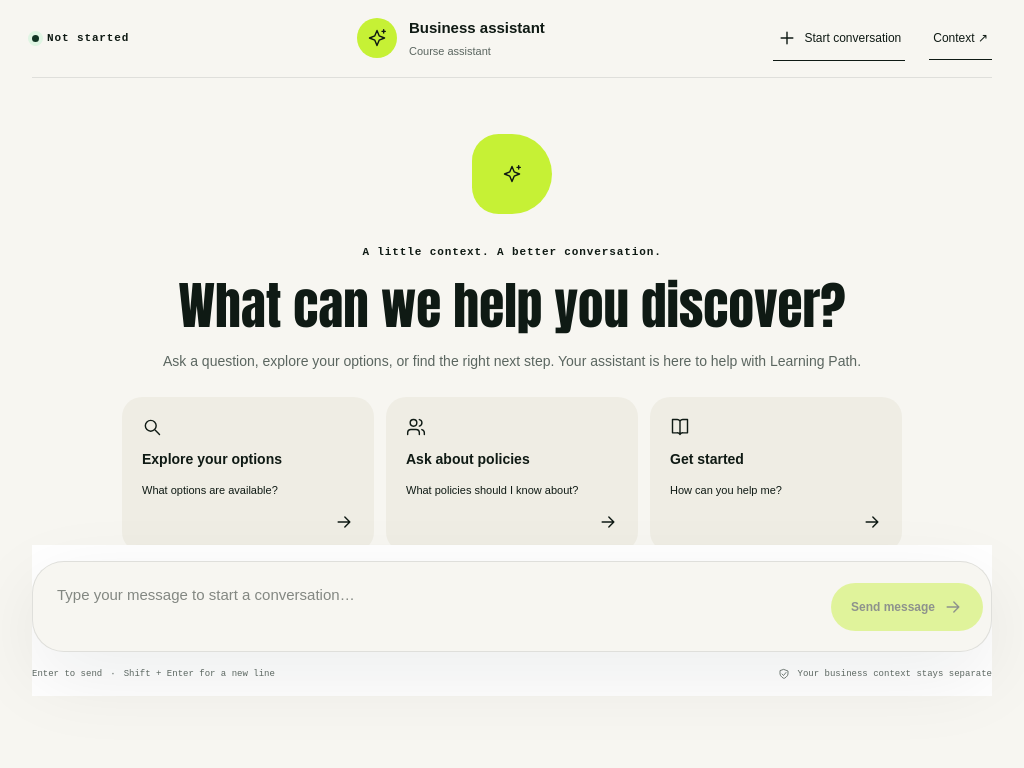
Test: terminal failure shows review guidance and does not offer unsafe replay
This screenshot has width=1024, height=768.
Type "Save enquiry" into the text box labelled "message". click: (428, 606)
box: [41,570,815,643]
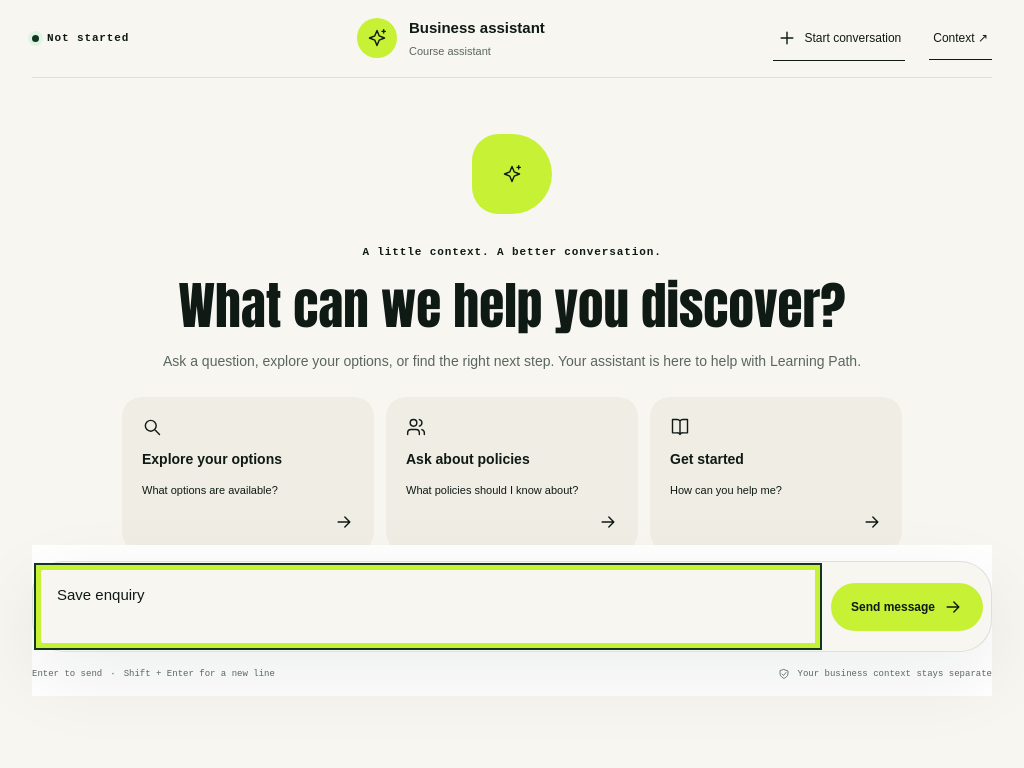
Click the button "Send message". click: click(907, 606)
box: [831,582,983,630]
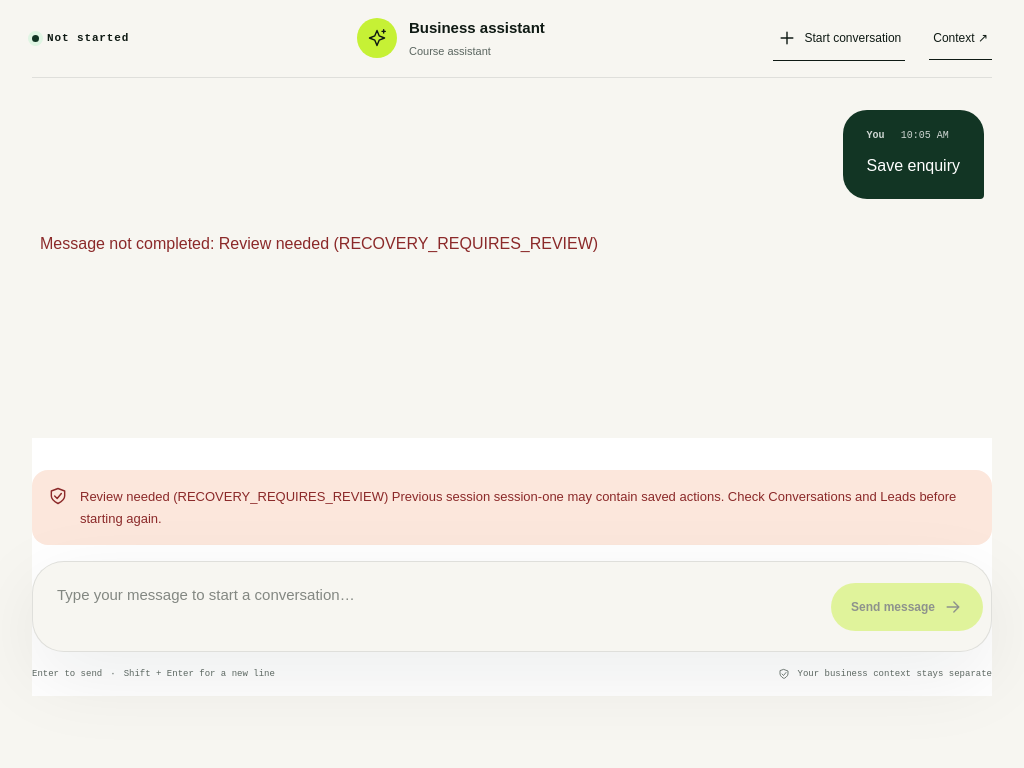
Now the text "Previous session session-one may contain saved actions" is shown, box [80,489,956,526]
